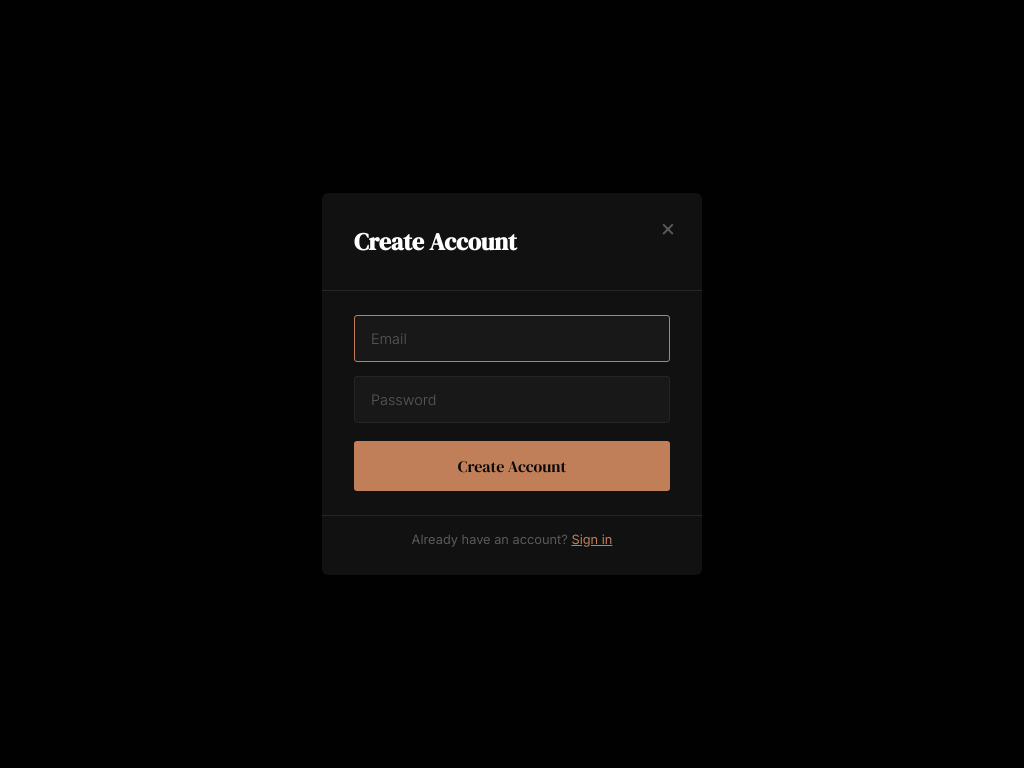
Scenario: AuthModal › form submission — create account › shows error message on failed sign up
Type "existing@example.com" into the field with placeholder "Email". click: (512, 338)
box: [354,315,670,362]
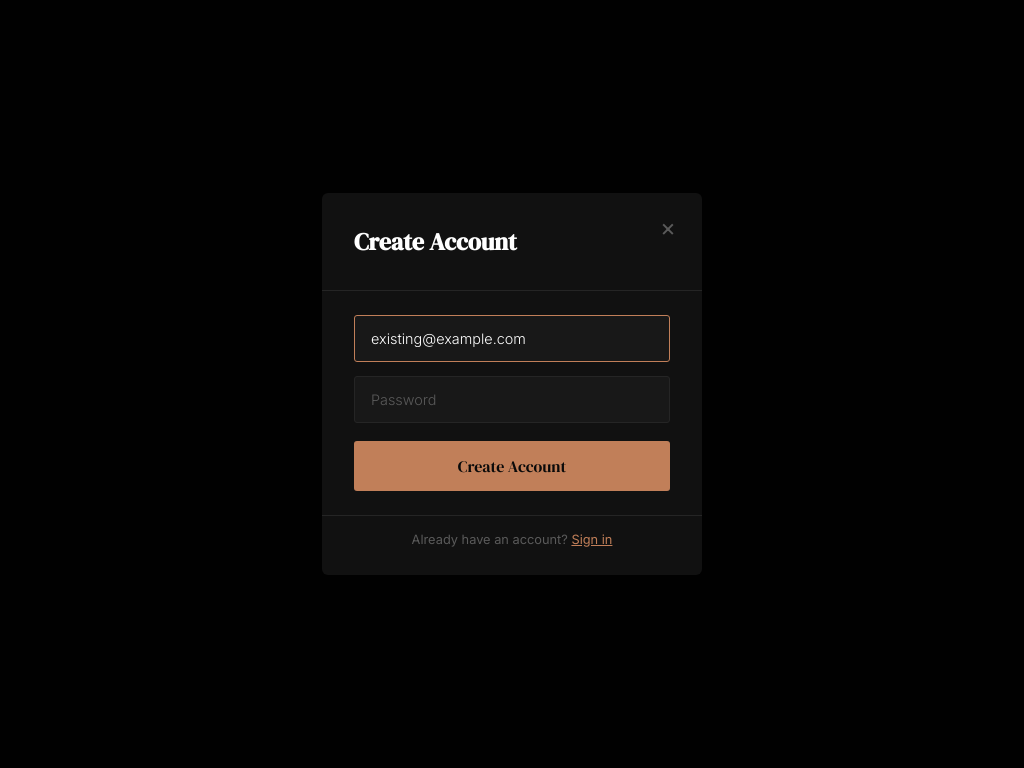
Type "password123" into the password field with placeholder "Password". click: (512, 400)
box: [354,376,670,423]
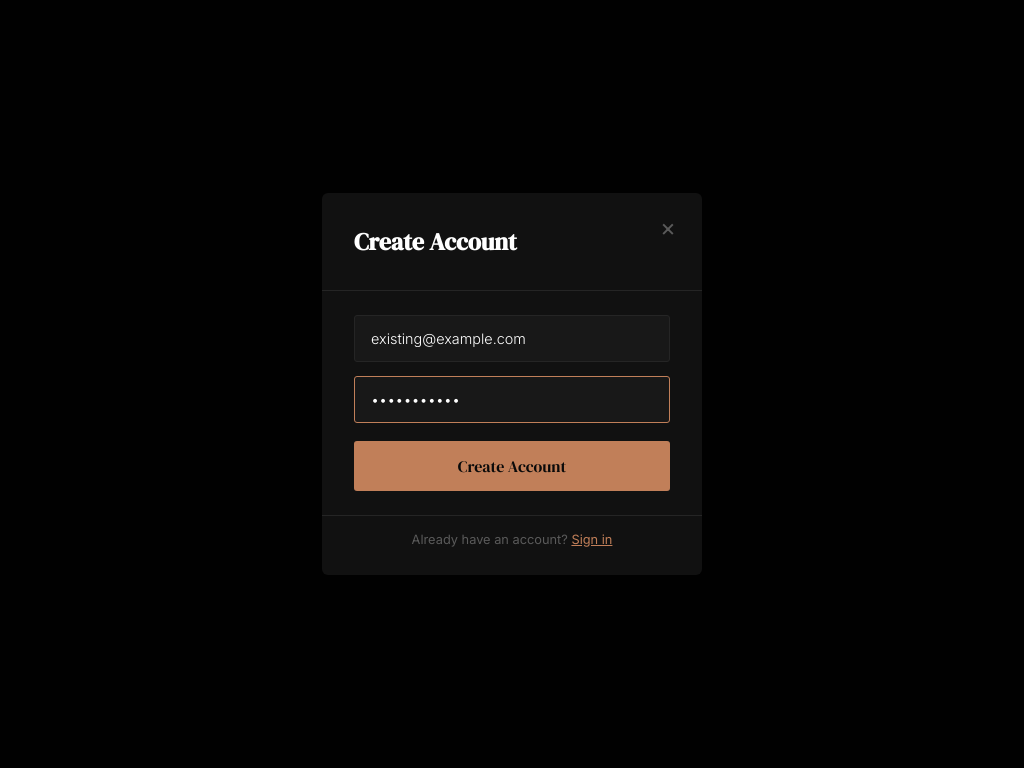
Click the button "Create Account". click: (512, 466)
box: [354,441,670,491]
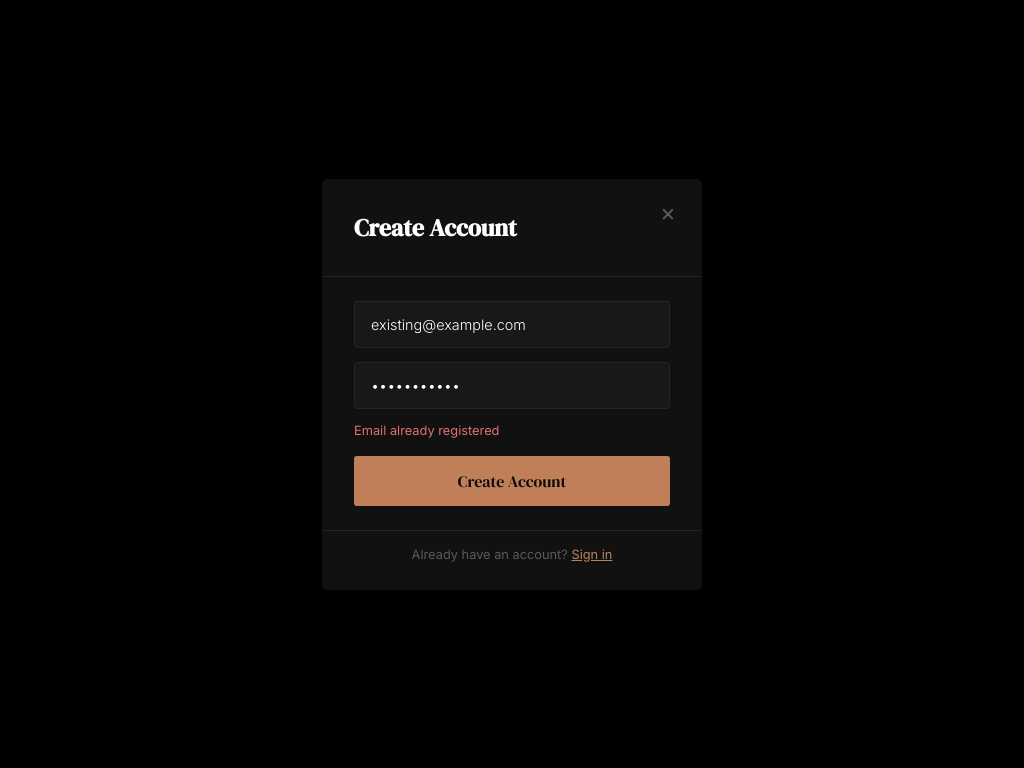
Expected: the text "Email already registered" is shown, [354,422,499,438]
